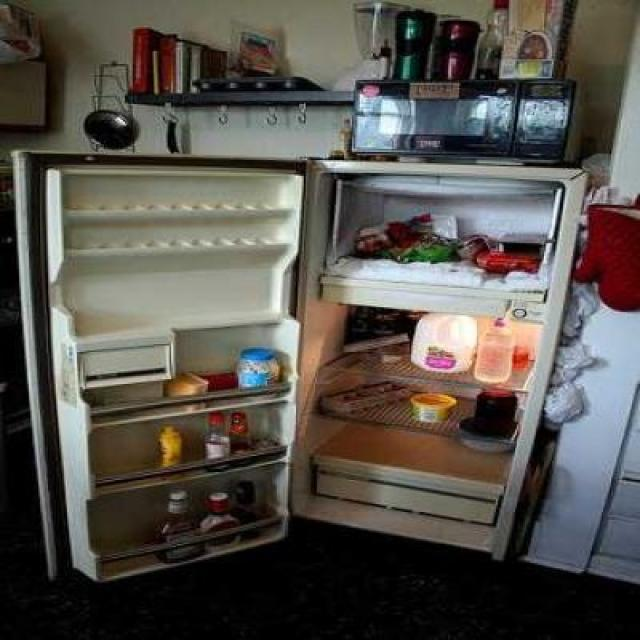refrigerator: (21, 153, 558, 552)
